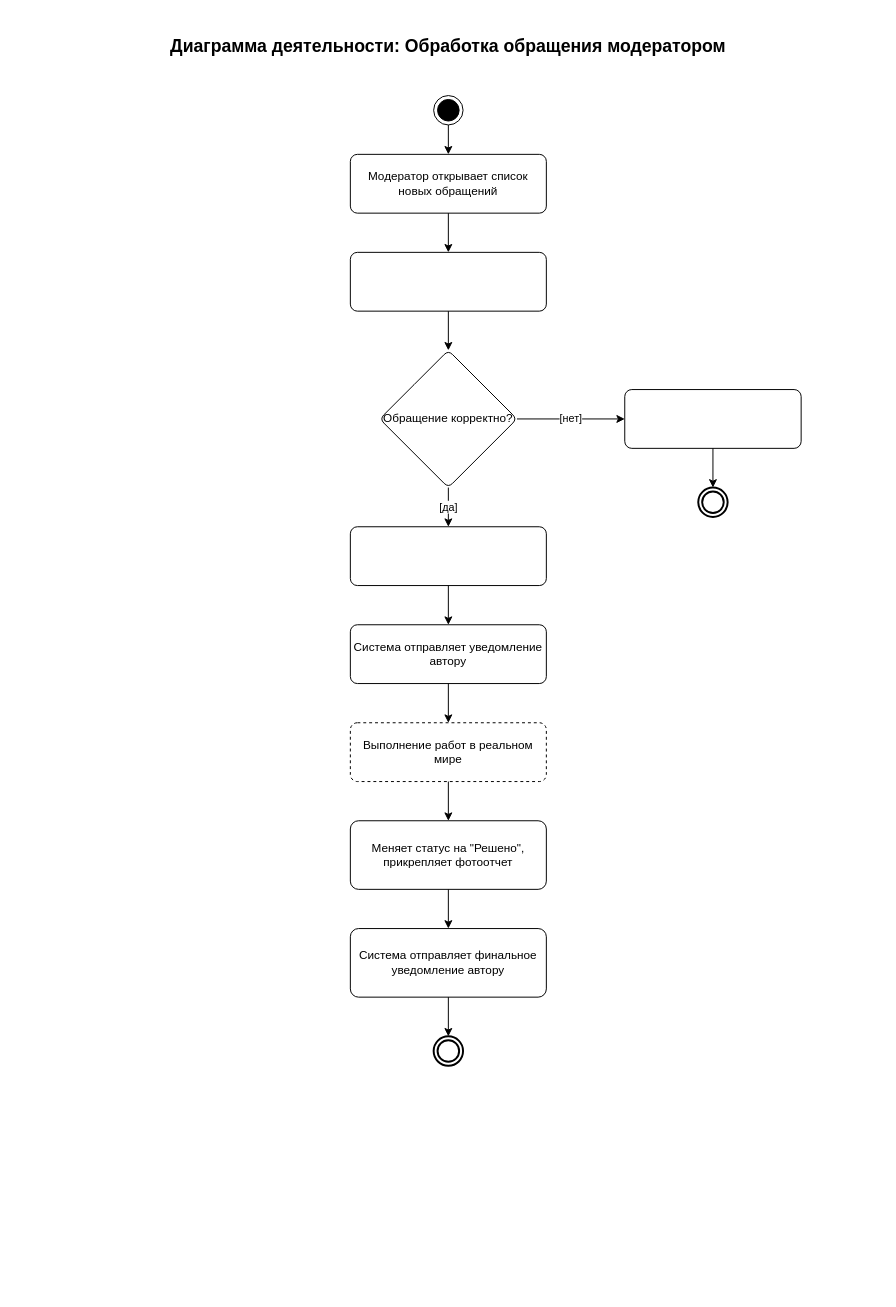
Some shapes in this 896 by 1307 pixel diagram are drawn without their labels. Here are the shapes that lost their labels. From the top down, the centre of each, then its label:
point (447, 281): Выбирает обращение в статусе "Новое"
point (712, 418): Отклоняет обращение, указывает причину
point (447, 556): Меняет статус на "В работе"
